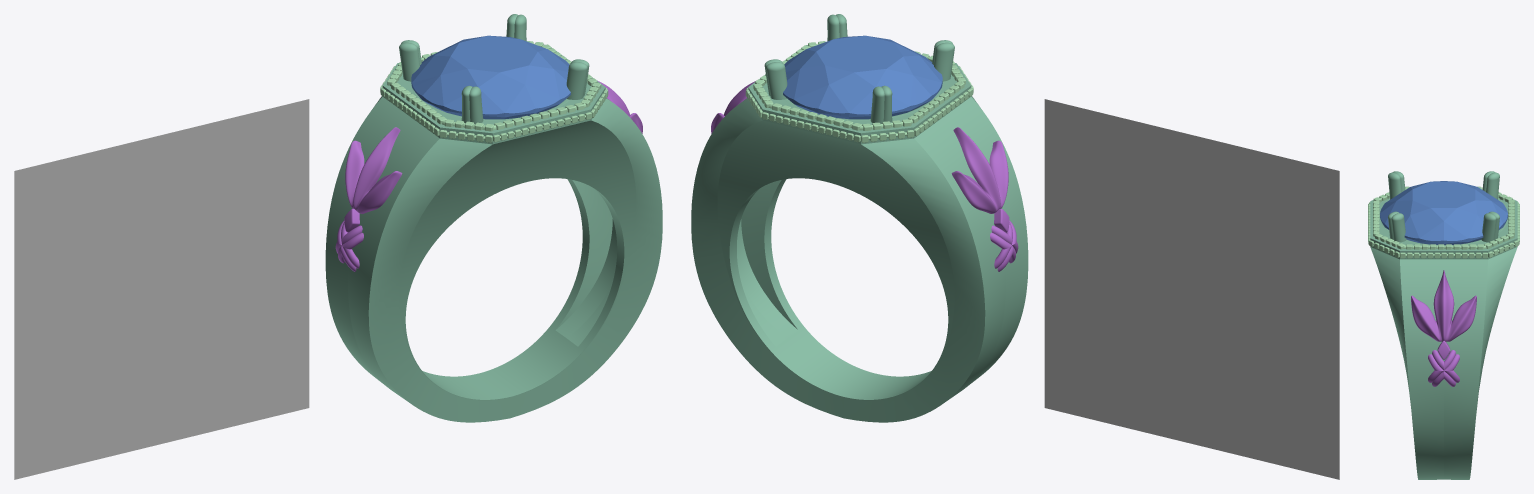
3 renders of one model, left to right at view 1: azimuth 30°, elevation 25°; view 2: azimuth 150°, elevation 25°; view 3: azimuth 270°, elevation 25°, orthographic. The views are drawn at different scales.
Parts seen in each view (by area): view 1: 12566699ab676af482aa269e2d05ffda.jpg, AMIR RING 2.3dm, Gem; view 2: 12566699ab676af482aa269e2d05ffda.jpg, AMIR RING 2.3dm, Gem; view 3: AMIR RING 2.3dm, Gem.
Boxes of the visible parts, <box> form: 12566699ab676af482aa269e2d05ffda.jpg: <box>14,99,309,479</box>; AMIR RING 2.3dm: <box>325,14,662,422</box>; Gem: <box>411,35,570,119</box>; 12566699ab676af482aa269e2d05ffda.jpg: <box>1044,99,1339,479</box>; AMIR RING 2.3dm: <box>691,14,1028,422</box>; Gem: <box>783,35,942,119</box>; AMIR RING 2.3dm: <box>1368,171,1519,479</box>; Gem: <box>1380,181,1507,245</box>.
Bounding box in the file's own units: 5.19 × 2.78 × 1.4.
